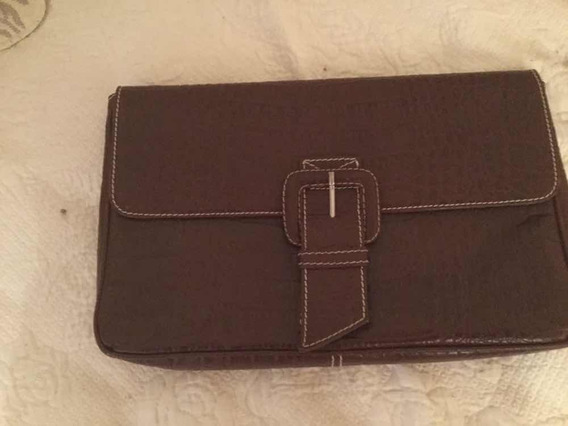cartera: (92, 67, 568, 373)
